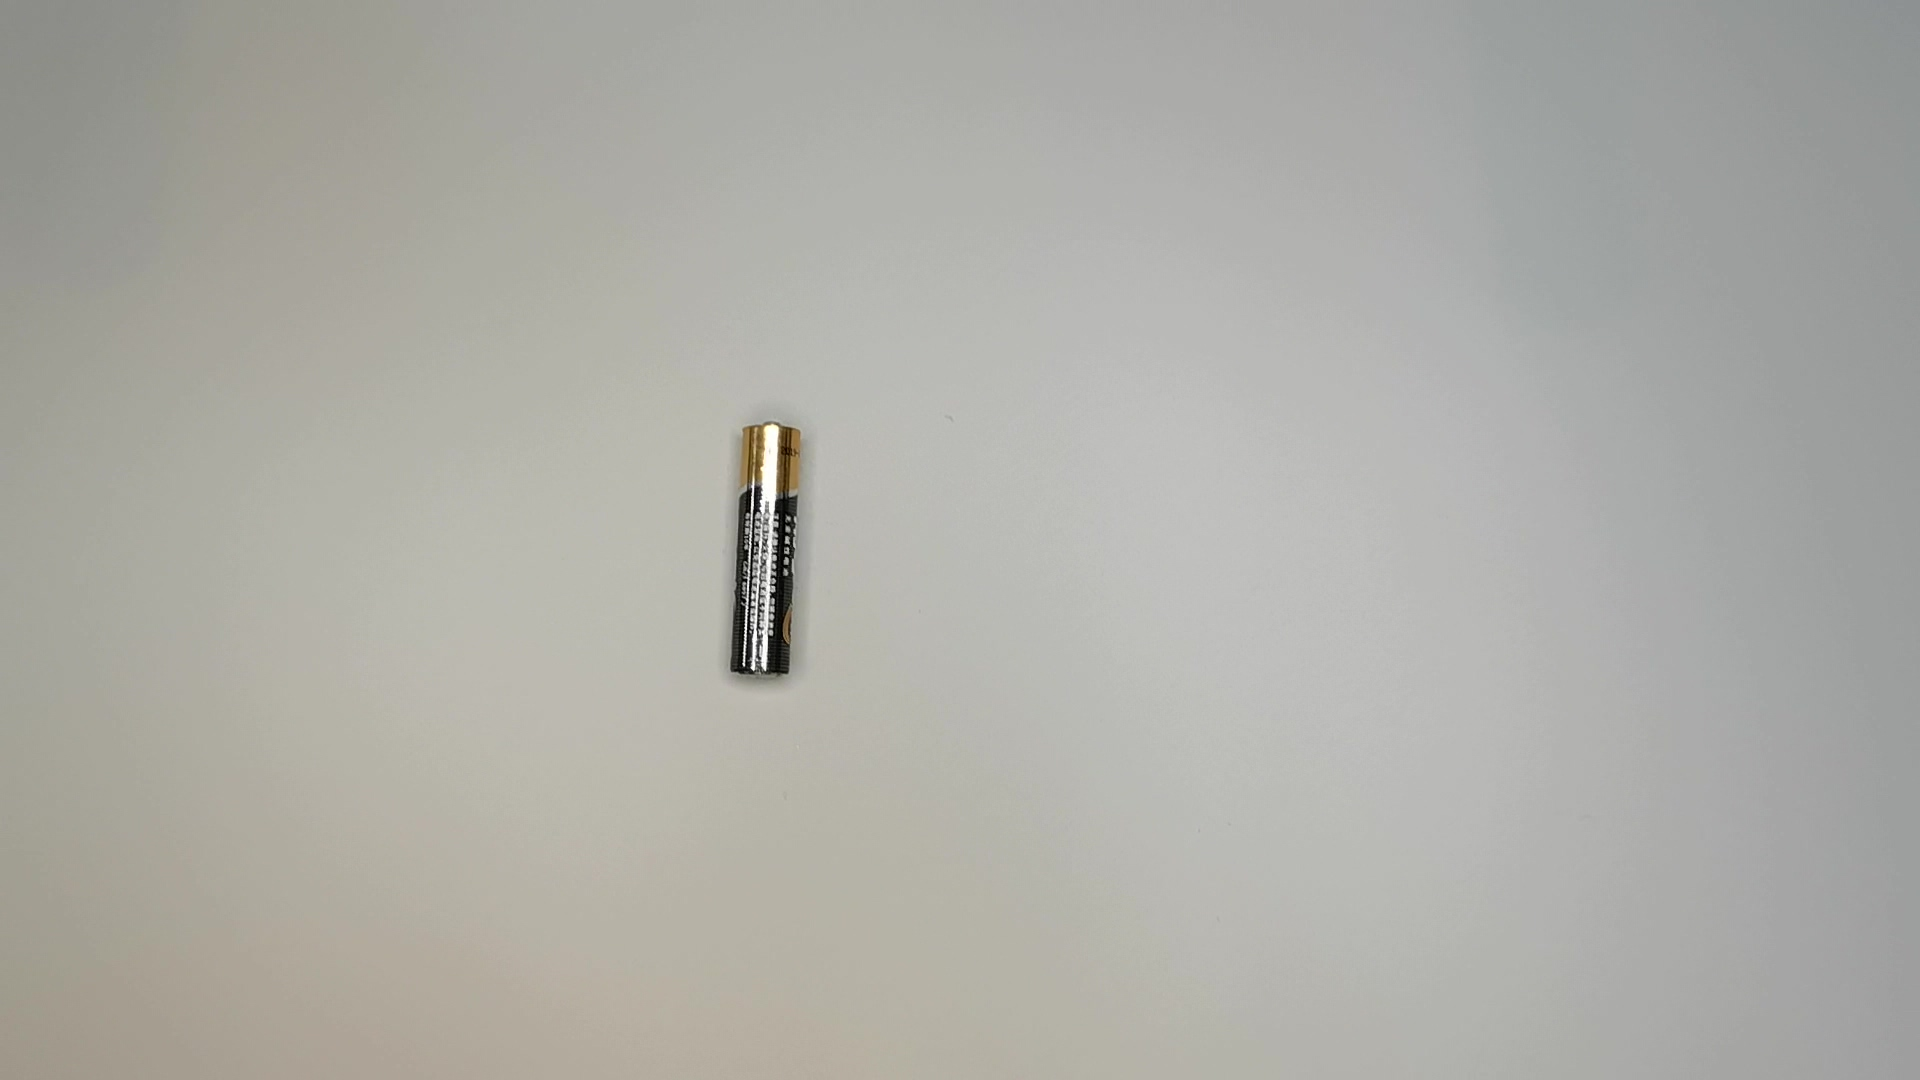battery: (728, 417, 811, 690)
